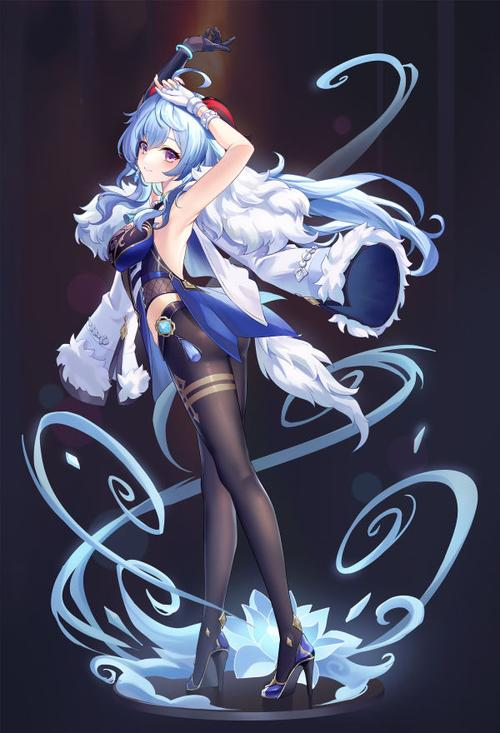夜兰: (99, 198, 334, 702)
